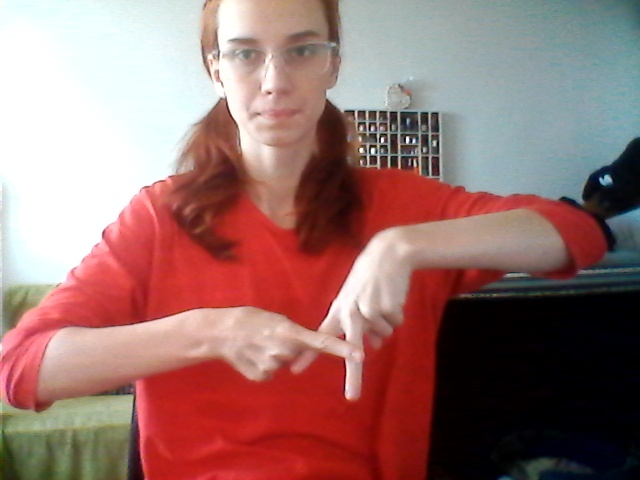a: (231, 269, 411, 407)
